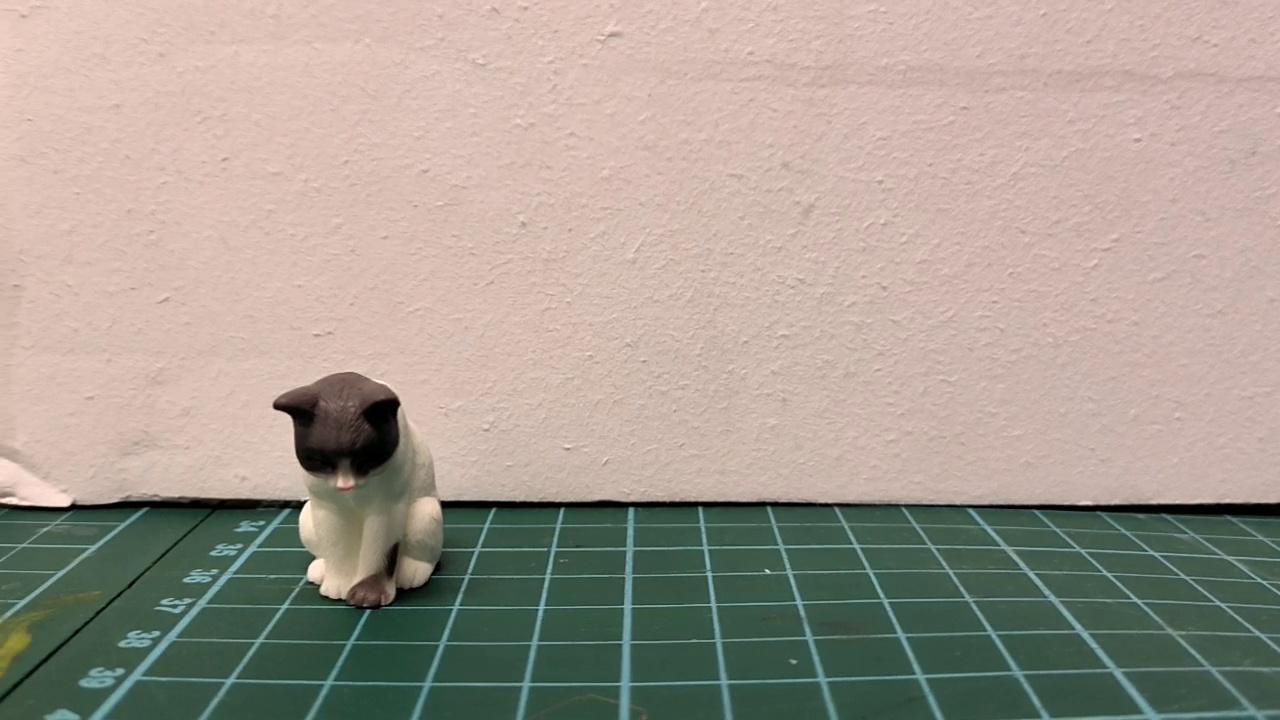pet: (271, 366, 443, 611)
